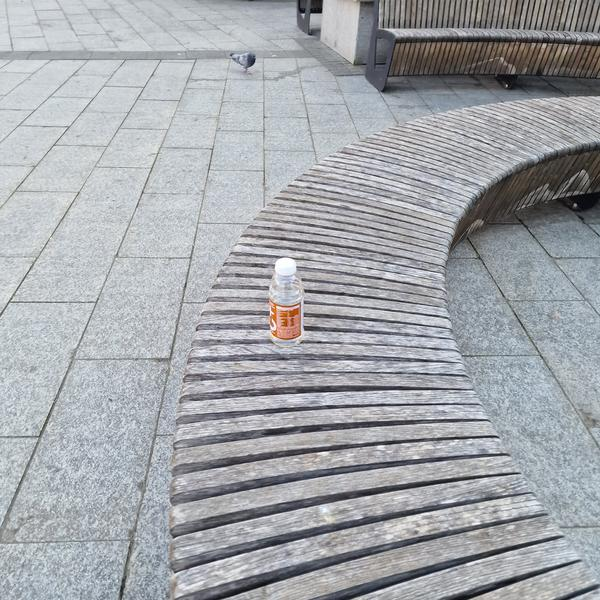plastic_bottle: (268, 257, 304, 348)
